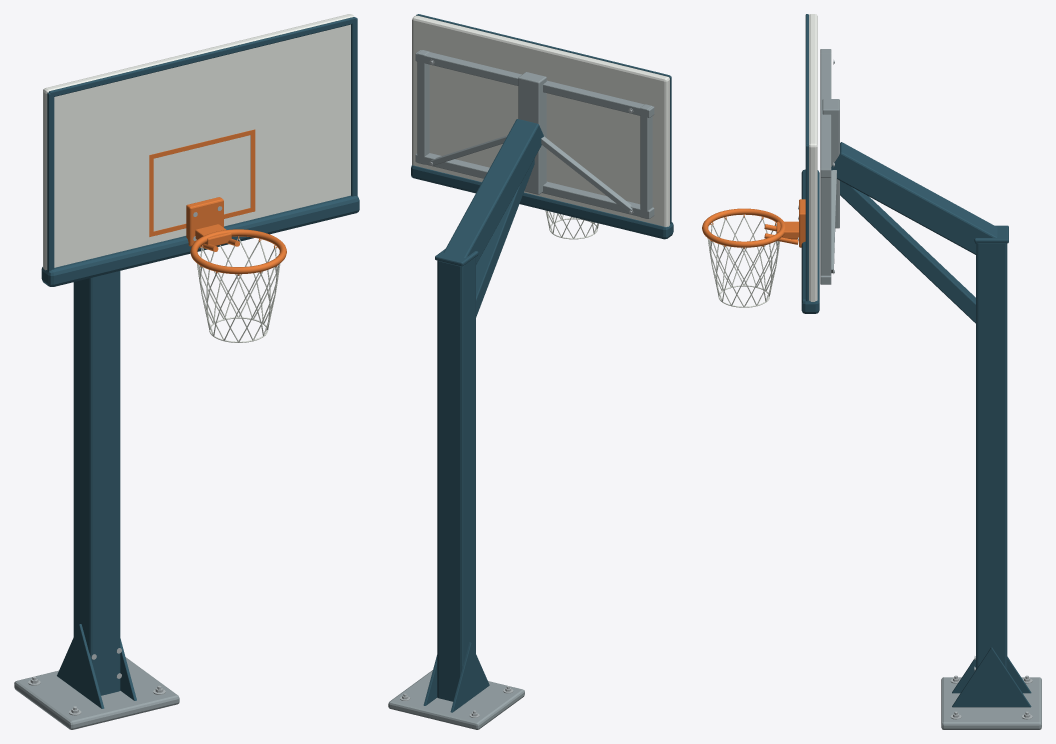
Rendered from city-basketball-goal.glb.
3 renders of one model, left to right at view 1: azimuth 30°, elevation 25°; view 2: azimuth 150°, elevation 25°; view 3: azimuth 270°, elevation 25°, orthographic. The views are drawn at different scales.
Parts seen in each view (by area): view 1: Assembly | Warm white markings and board, Assembly | Deep blue outdoor powder coat, Assembly | Warm orange coated metal, Assembly | Galvanized mounting steel, Assembly | Cream woven nylon net; view 2: Assembly | Deep blue outdoor powder coat, Assembly | Warm white markings and board, Assembly | Galvanized mounting steel, Assembly | Cream woven nylon net; view 3: Assembly | Deep blue outdoor powder coat, Assembly | Galvanized mounting steel, Assembly | Warm white markings and board, Assembly | Cream woven nylon net, Assembly | Warm orange coated metal.
Part boxes in pixels (x1=…): Assembly | Warm white markings and board: x1=43, y1=14, x2=354, y2=270; Assembly | Deep blue outdoor powder coat: x1=41, y1=17, x2=359, y2=708; Assembly | Warm orange coated metal: x1=149, y1=129, x2=286, y2=275; Assembly | Galvanized mounting steel: x1=14, y1=657, x2=179, y2=729; Assembly | Cream woven nylon net: x1=197, y1=238, x2=280, y2=342; Assembly | Deep blue outdoor powder coat: x1=411, y1=14, x2=673, y2=712; Assembly | Warm white markings and board: x1=412, y1=15, x2=669, y2=226; Assembly | Galvanized mounting steel: x1=388, y1=50, x2=654, y2=729; Assembly | Cream woven nylon net: x1=545, y1=210, x2=598, y2=239; Assembly | Deep blue outdoor powder coat: x1=801, y1=14, x2=1031, y2=707; Assembly | Galvanized mounting steel: x1=820, y1=49, x2=1041, y2=729; Assembly | Warm white markings and board: x1=809, y1=14, x2=817, y2=301; Assembly | Cream woven nylon net: x1=707, y1=216, x2=780, y2=307; Assembly | Warm orange coated metal: x1=702, y1=199, x2=805, y2=248.
Bounding box in the file's own units: 1.81 × 4 × 1.96.
